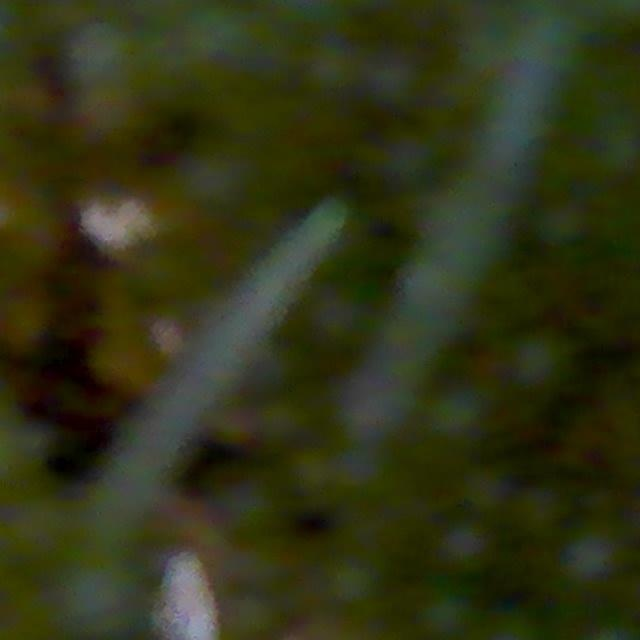SeaGrape: (57, 557, 140, 639), (65, 17, 140, 91), (506, 327, 574, 393), (558, 524, 625, 589), (431, 514, 496, 578), (411, 585, 479, 640)
